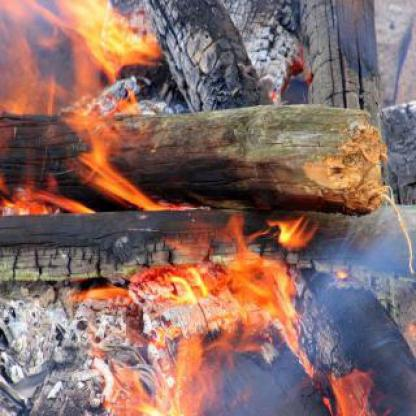Fire: (0, 0, 156, 240), (106, 320, 256, 416), (166, 211, 322, 296)
